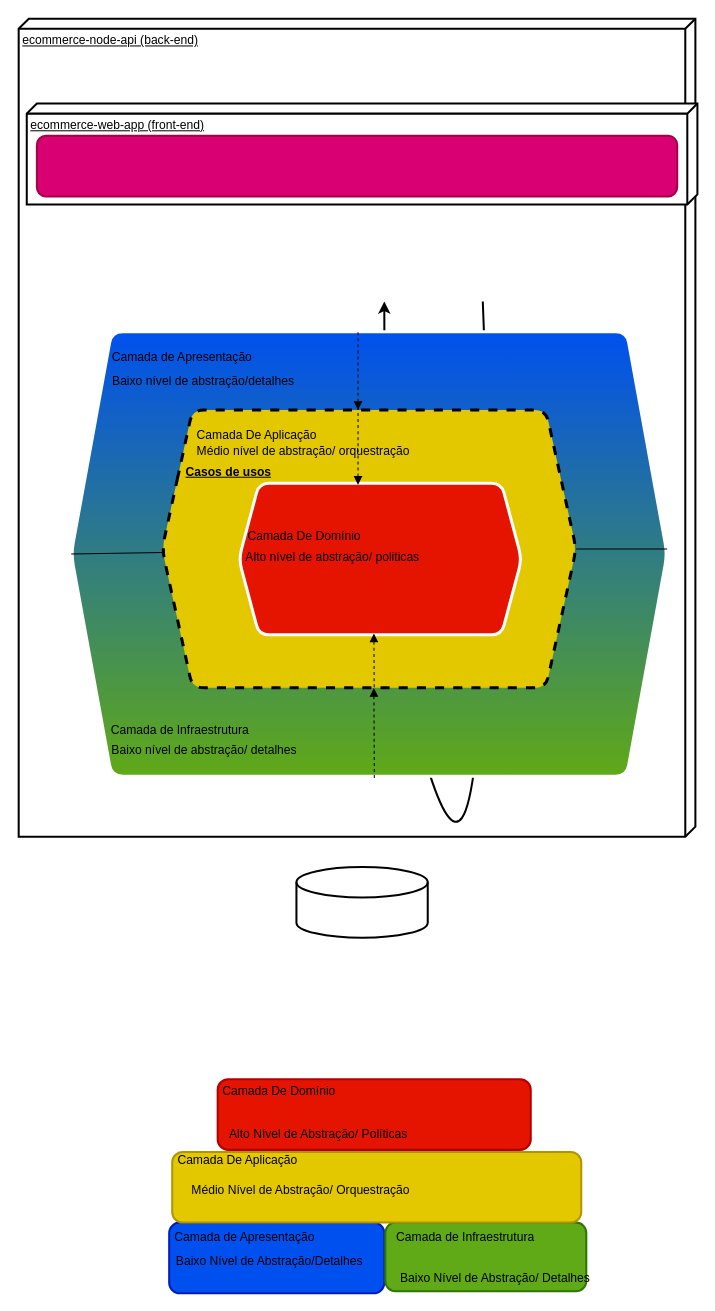
This 715x1311 diagram has some shape labels left out. The shapes that lost their labels are listed below. From the top down, each one's centre as x and y in pixels, then its label:
point 356,165: Interface Do Usuário
point 361,902: Database (Relacional)
